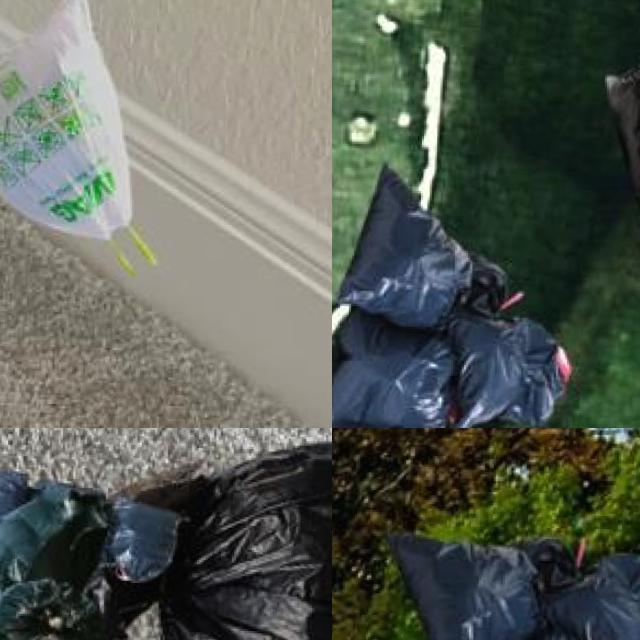waste: (0, 0, 204, 267), (175, 442, 332, 640), (332, 165, 482, 325), (391, 533, 548, 640), (447, 304, 578, 428), (332, 308, 452, 428), (0, 468, 100, 581), (588, 52, 640, 265), (544, 552, 640, 640), (106, 497, 184, 589), (0, 580, 110, 640)
